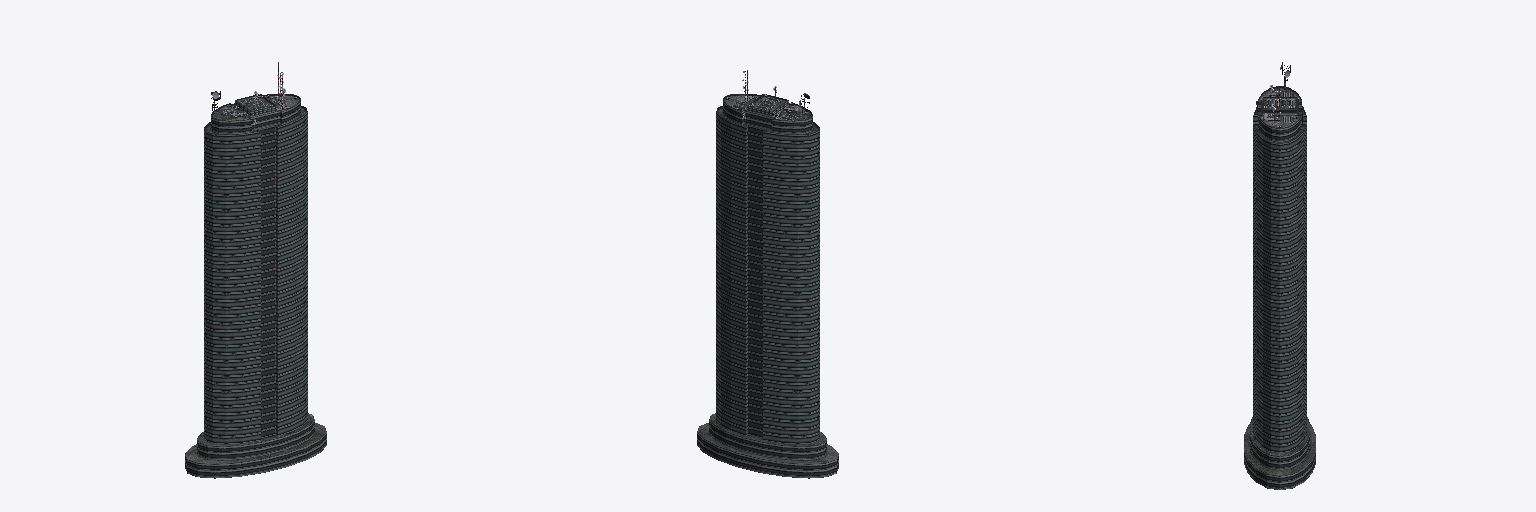
3 views of the same model, side by side, from view 1: azimuth 30°, elevation 25°; view 2: azimuth 150°, elevation 25°; view 3: azimuth 270°, elevation 25° (orthographic).
Parts seen in each view (by area): view 1: Cylinder01, Object01; view 2: Cylinder01, Object01; view 3: Cylinder01.
Part boxes in pixels (x1,y1,x2,y2): Cylinder01: (185,94,326,478); Object01: (211,91,297,119); Cylinder01: (697,94,838,478); Object01: (726,93,810,120); Cylinder01: (1244,86,1315,489).
Size of the model in its own units: 122 by 342 by 56.26.
Materials: 3 (3 with a texture image).